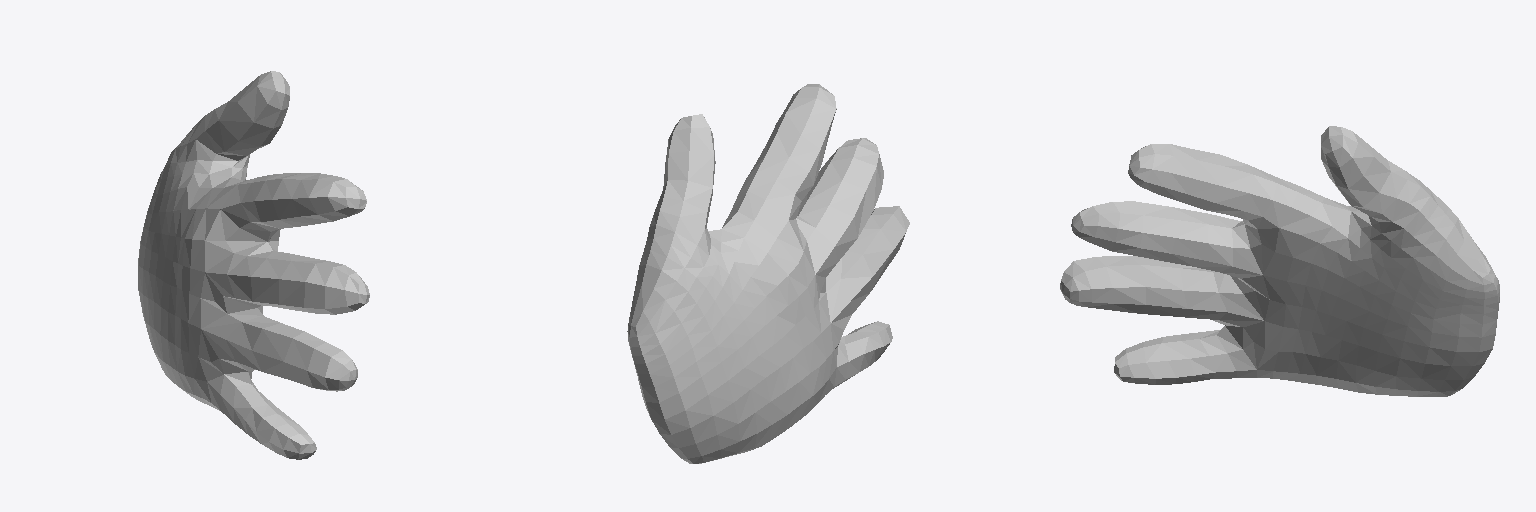
File: hand-free.obj
3 renders of one model, left to right at view 1: azimuth 30°, elevation 25°; view 2: azimuth 150°, elevation 25°; view 3: azimuth 270°, elevation 25°, orthographic.
Parts seen in each view (by area): view 1: object0_default; view 2: object0_default; view 3: object0_default.
Boxes of the visible parts, <box> form: object0_default: <box>138,71,369,459</box>; object0_default: <box>627,84,909,463</box>; object0_default: <box>1060,126,1499,396</box>.
Bounding box in the file's own units: 10.62 × 24.19 × 31.89.